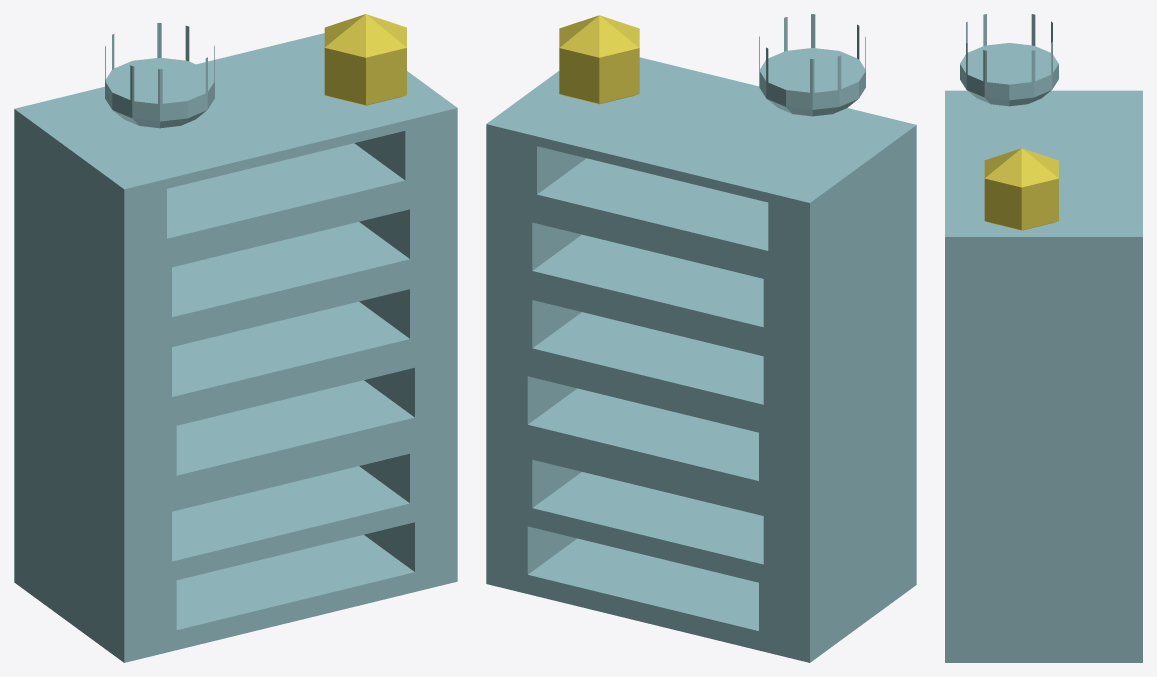
3 views of the same model, side by side, from view 1: azimuth 30°, elevation 25°; view 2: azimuth 150°, elevation 25°; view 3: azimuth 270°, elevation 25° (orthographic). The views are drawn at different scales.
Parts seen in each view (by area): view 1: Mesh_Mesh_head_geo.001_lambert2SG.001; view 2: Mesh_Mesh_head_geo.001_lambert2SG.001; view 3: Mesh_Mesh_head_geo.001_lambert2SG.001.
Boxes of the visible parts, left/top/right/bottom form: Mesh_Mesh_head_geo.001_lambert2SG.001: left=14, top=14, right=457, bottom=662; Mesh_Mesh_head_geo.001_lambert2SG.001: left=486, top=14, right=916, bottom=662; Mesh_Mesh_head_geo.001_lambert2SG.001: left=945, top=14, right=1142, bottom=662.
Bounding box in the file's own units: 70 × 115 × 40.
